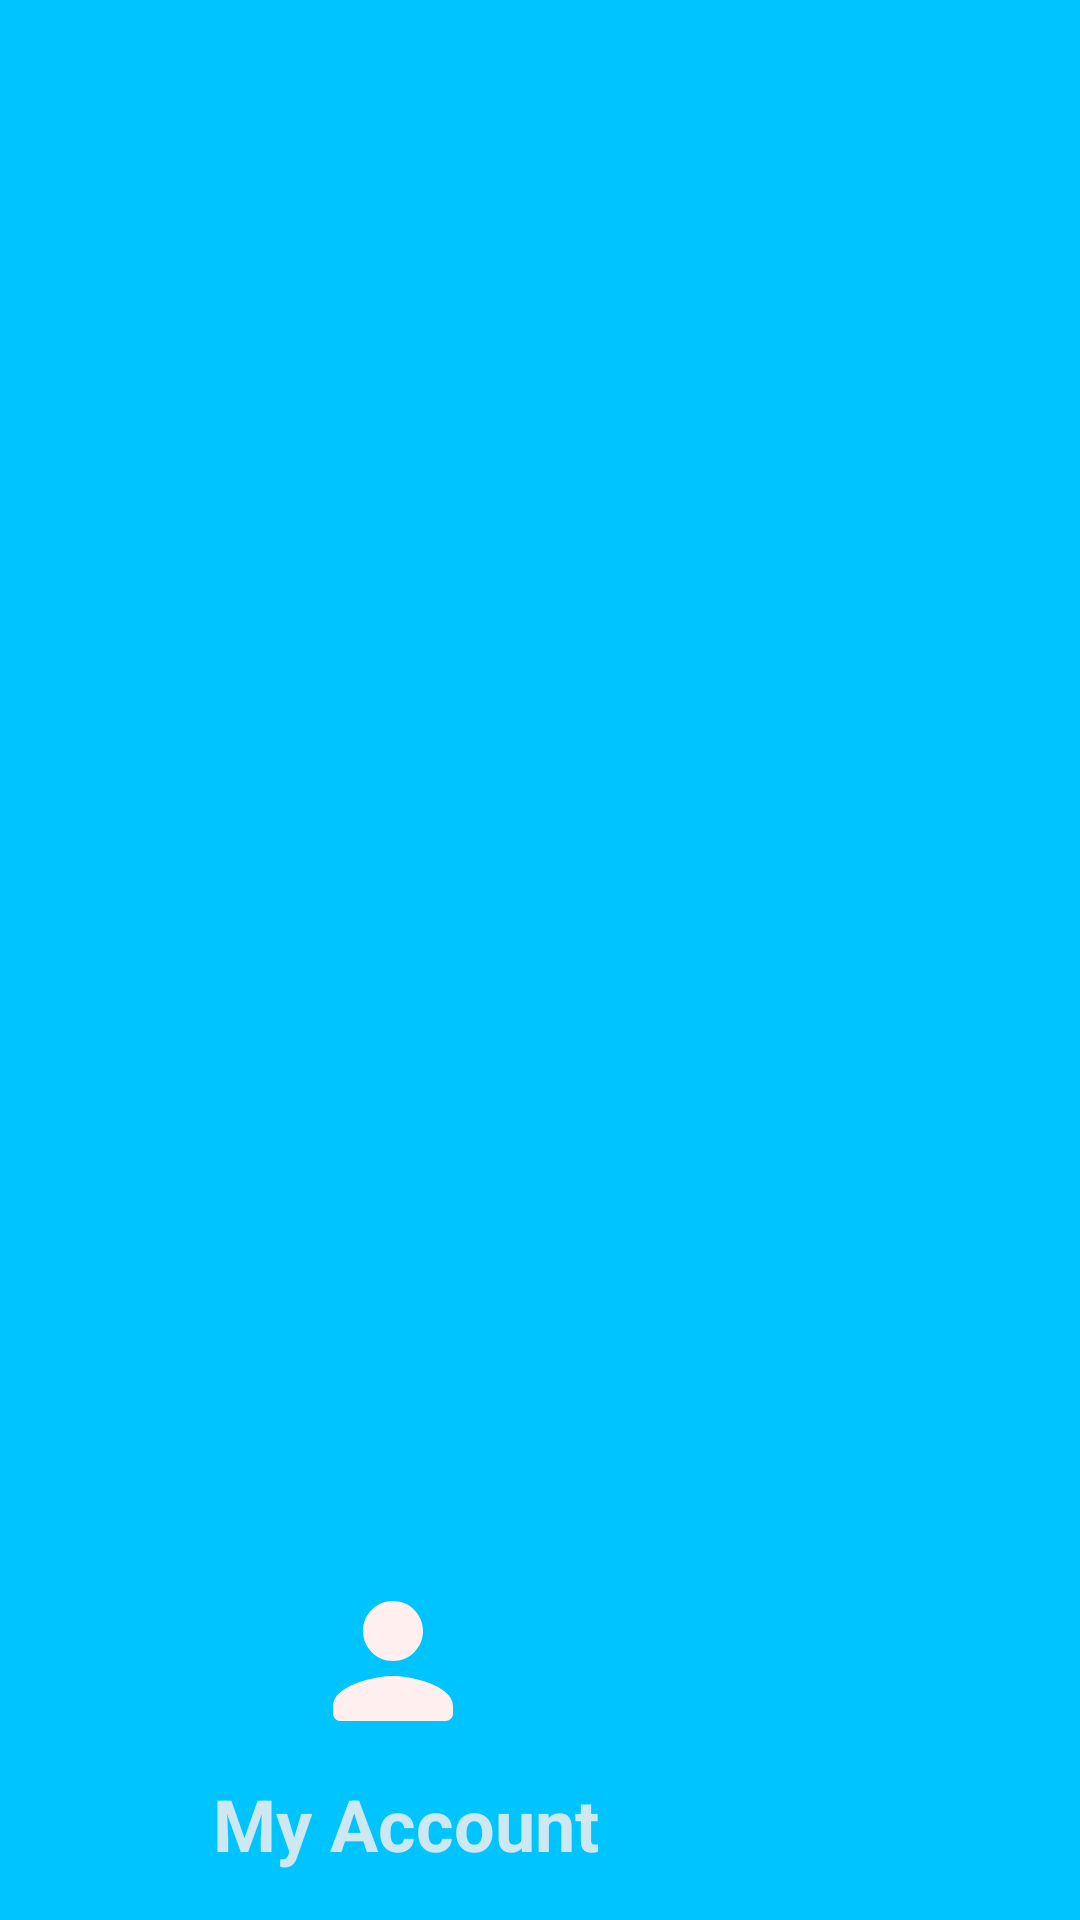

Icon click points for this 1080 × 1920 phone screenshot, format (x=x, y=y):
user: (x=393, y=1661)
